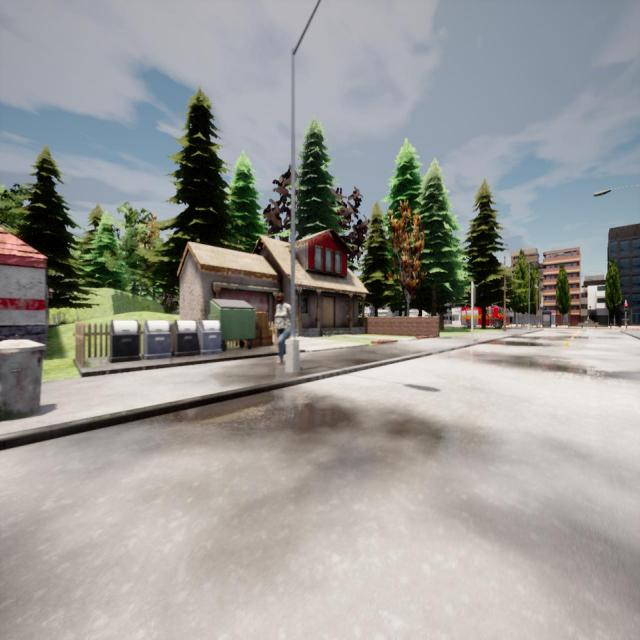Pedestrian: (274, 292, 292, 364)
Vehicle: (462, 305, 508, 329)
traffic_light: (473, 286, 476, 304), (625, 302, 628, 310)
